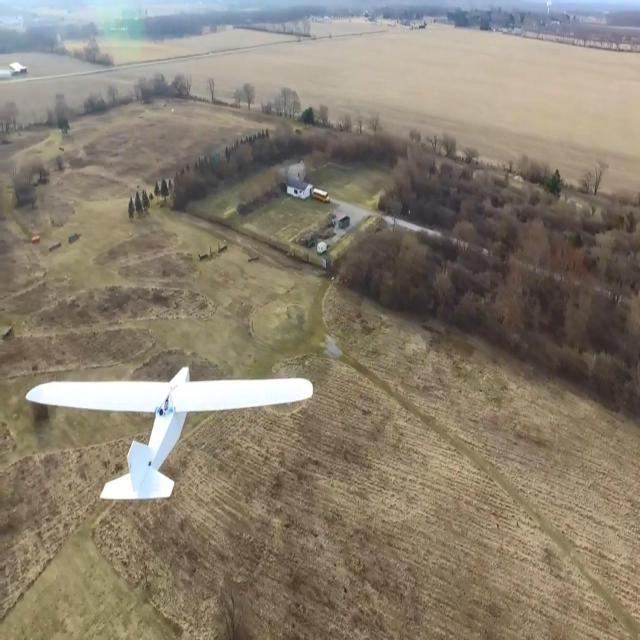UAV: (14, 342, 324, 510)
